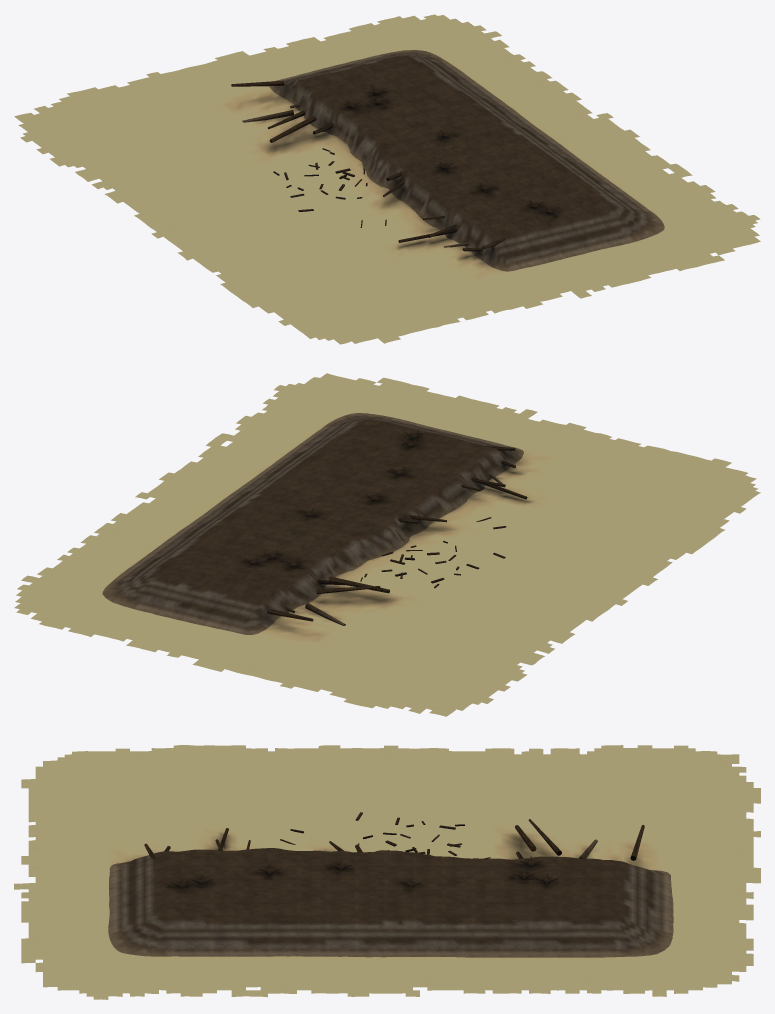
3 views of the same model, one above another, from view 1: azimuth 30°, elevation 25°; view 2: azimuth 150°, elevation 25°; view 3: azimuth 270°, elevation 25° (orthographic). The views are drawn at different scales.
Visible parts, largest first — view 1: sediment, peat_cliff, trees, timbers; view 2: sediment, peat_cliff, trees, timbers; view 3: sediment, peat_cliff, trees, timbers.
Boxes of the visible parts, <box> form: sediment: <box>14,14,760,344</box>; peat_cliff: <box>269,50,664,271</box>; trees: <box>231,80,558,251</box>; timbers: <box>273,148,390,227</box>; sediment: <box>14,373,760,716</box>; peat_cliff: <box>102,413,523,634</box>; trees: <box>244,430,527,625</box>; timbers: <box>360,517,506,588</box>; sediment: <box>14,745,760,999</box>; peat_cliff: <box>108,848,673,957</box>; trees: <box>144,819,644,888</box>; timbers: <box>280,812,490,858</box>.
Size of the model in its own units: 83 by 3.96 by 103.
Materials: 3 (2 with a texture image).
